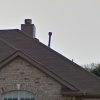Chimney: (12, 15, 43, 40)
